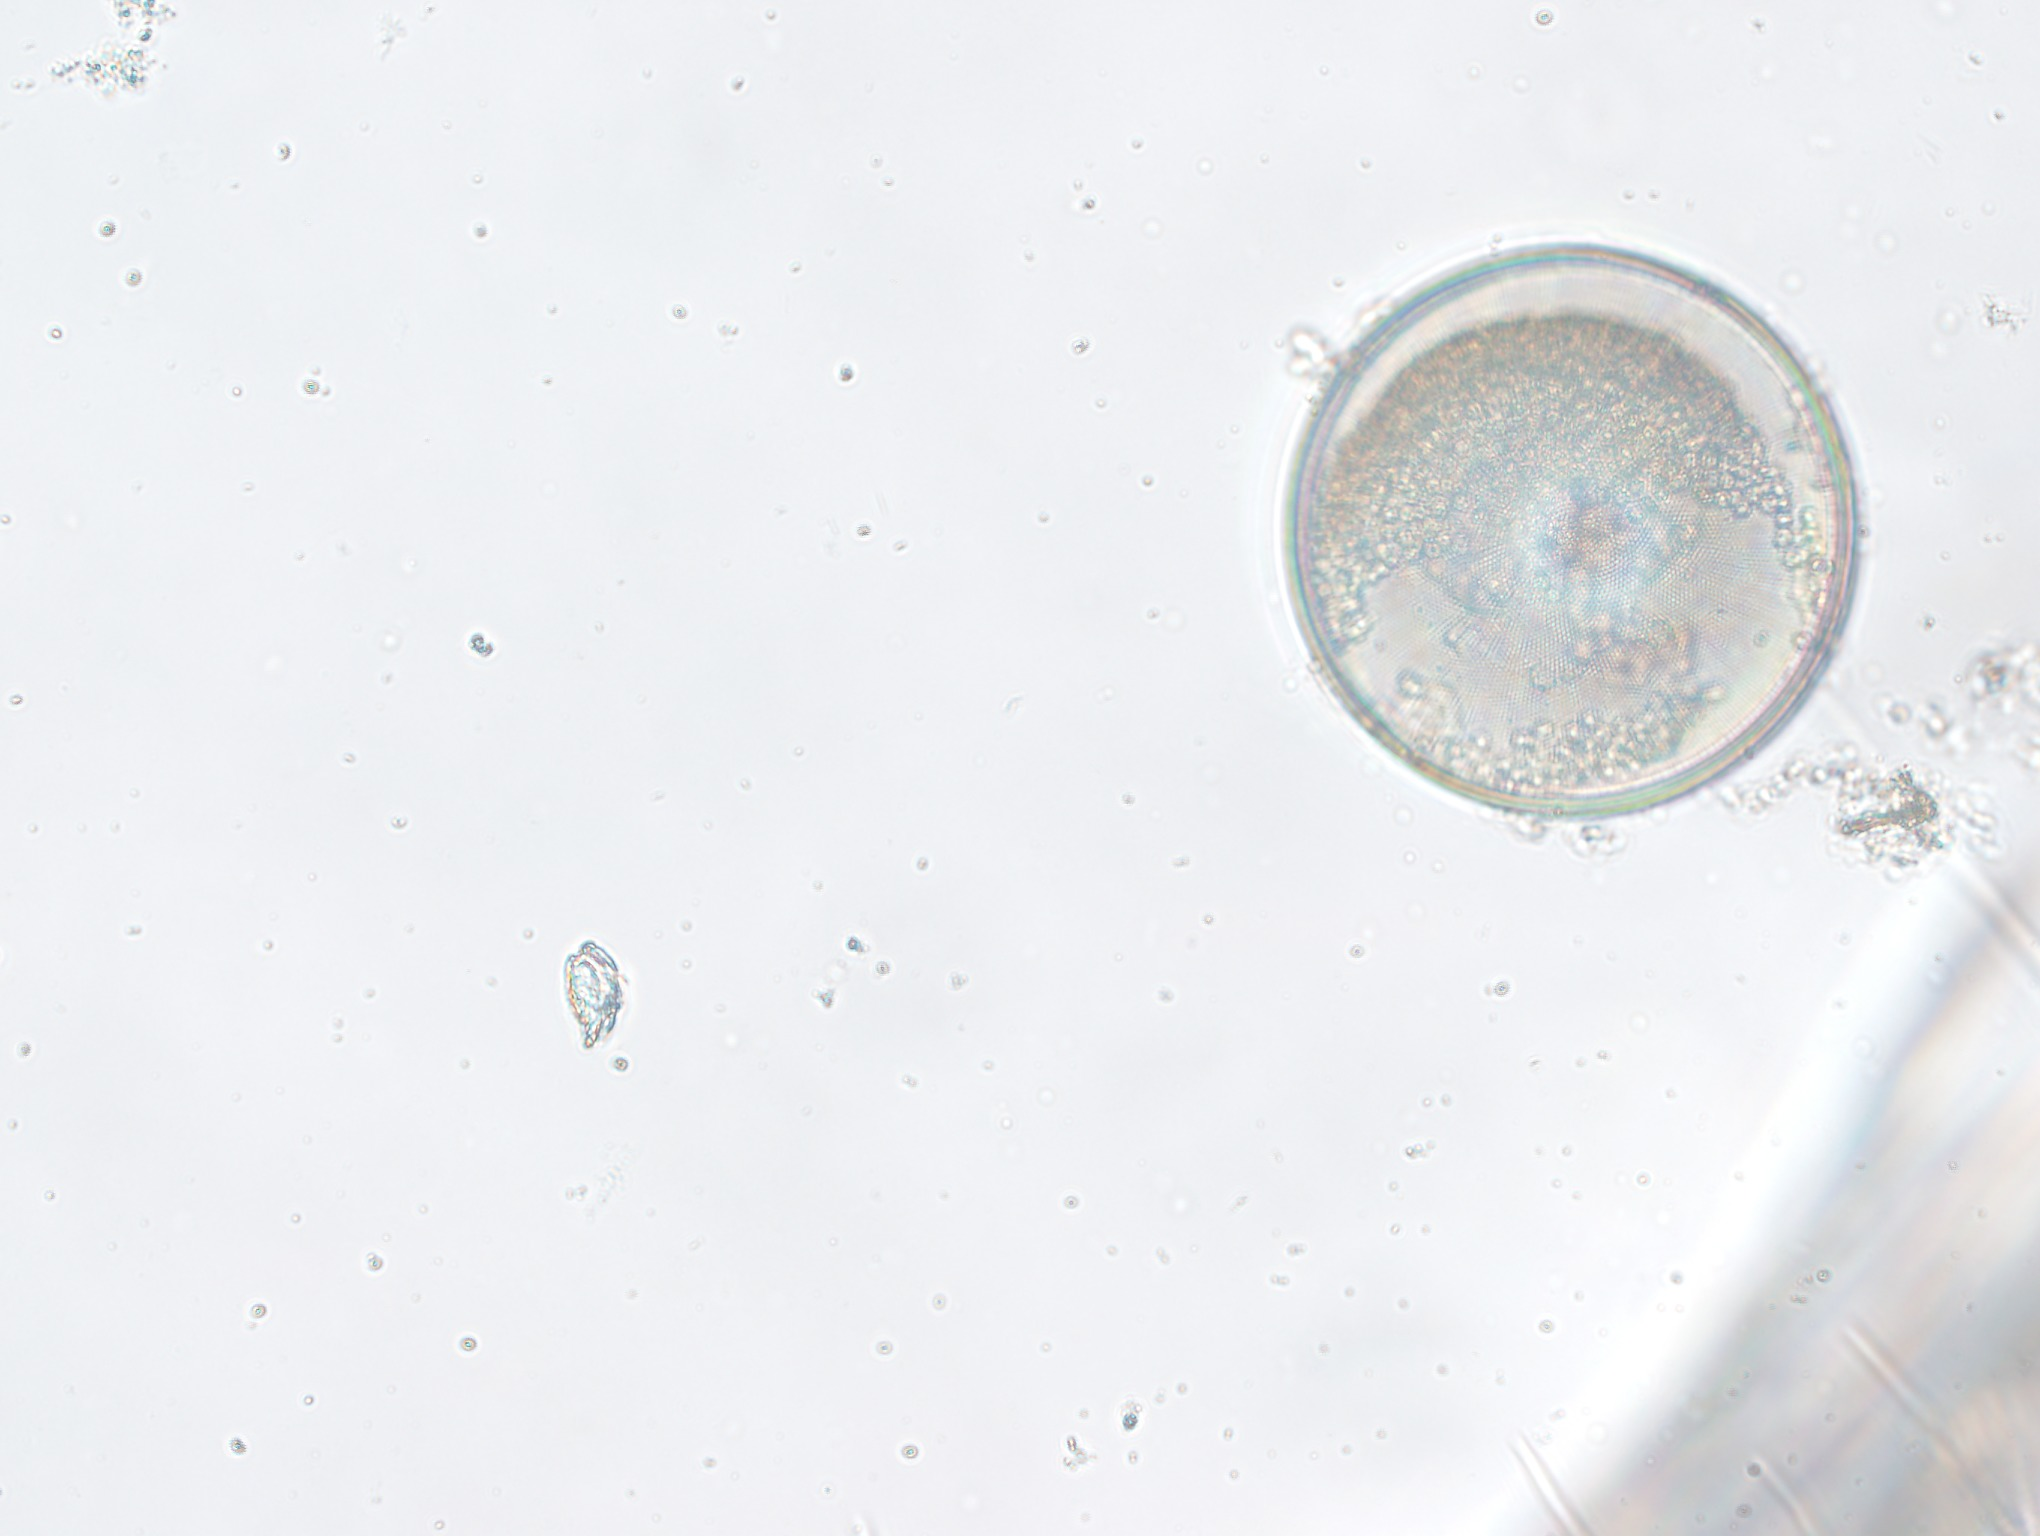coscinodiscus: (1274, 242, 1871, 833)
